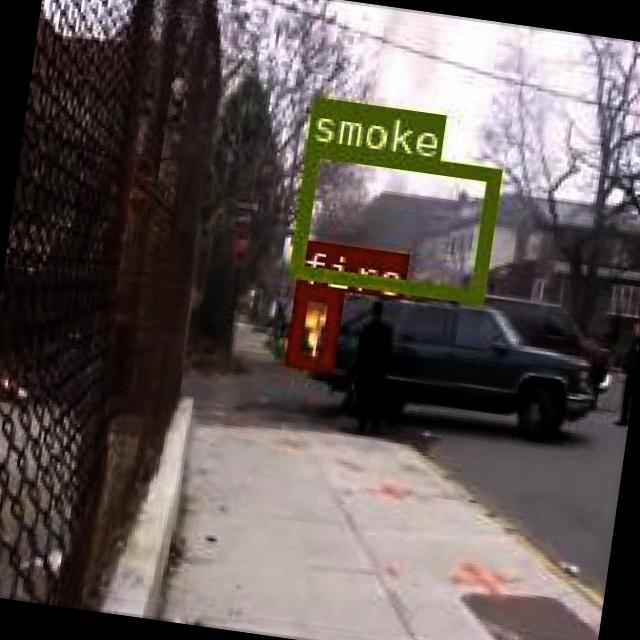fire: (282, 282, 340, 370)
smoke: (288, 142, 498, 300)
